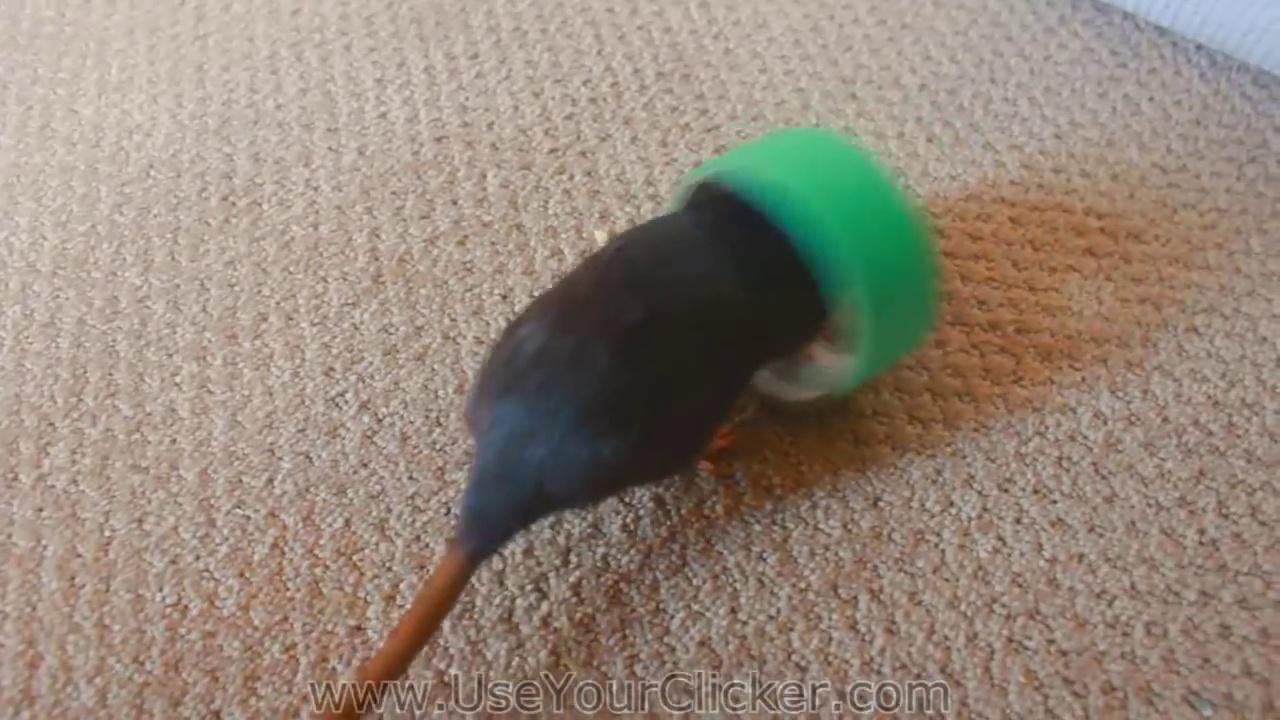rat: (314, 189, 839, 720)
